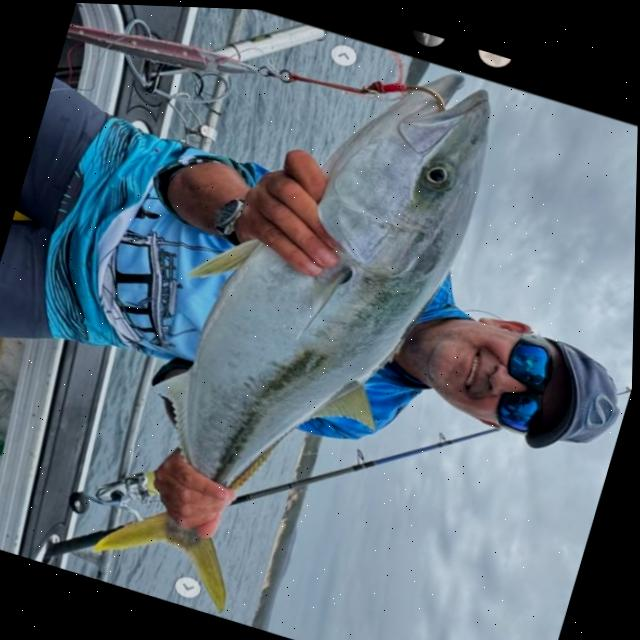Kingfish: (81, 3, 509, 640)
